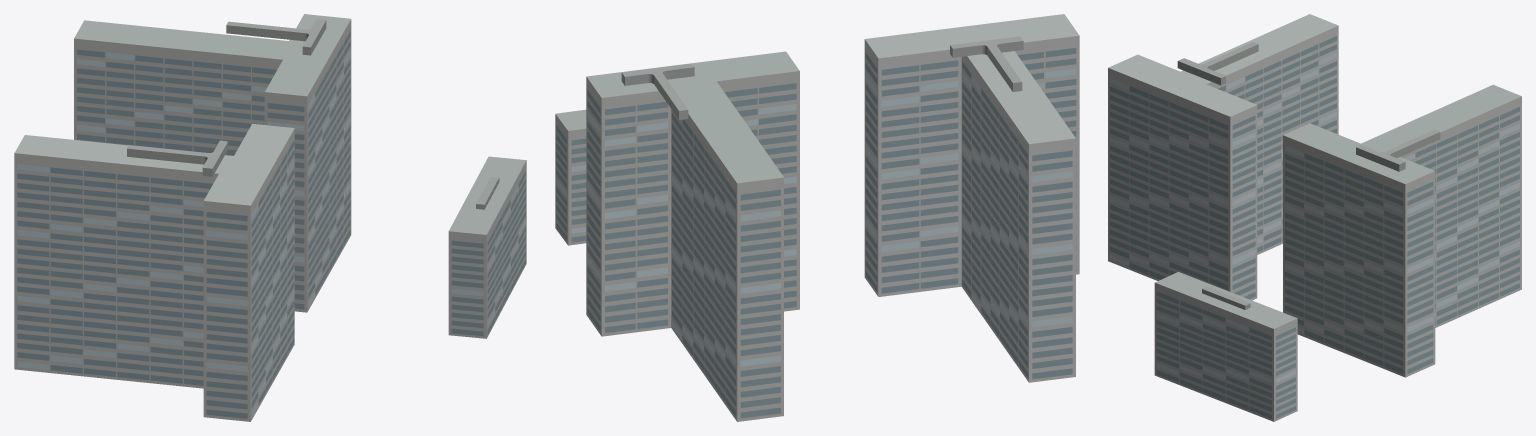
The model's file is apt-a13920207.glb.
3 views of the same model, side by side, from view 1: azimuth 30°, elevation 25°; view 2: azimuth 150°, elevation 25°; view 3: azimuth 270°, elevation 25° (orthographic). The views are drawn at different scales.
Visible parts, largest first — view 1: apt-a13920207; view 2: apt-a13920207; view 3: apt-a13920207.
Boxes of the visible parts, x1=… form: apt-a13920207: x1=14, y1=14, x2=526, y2=421; apt-a13920207: x1=555, y1=14, x2=1079, y2=421; apt-a13920207: x1=1108, y1=14, x2=1521, y2=421.
Bounding box in the file's own units: 151 × 66 × 123.
